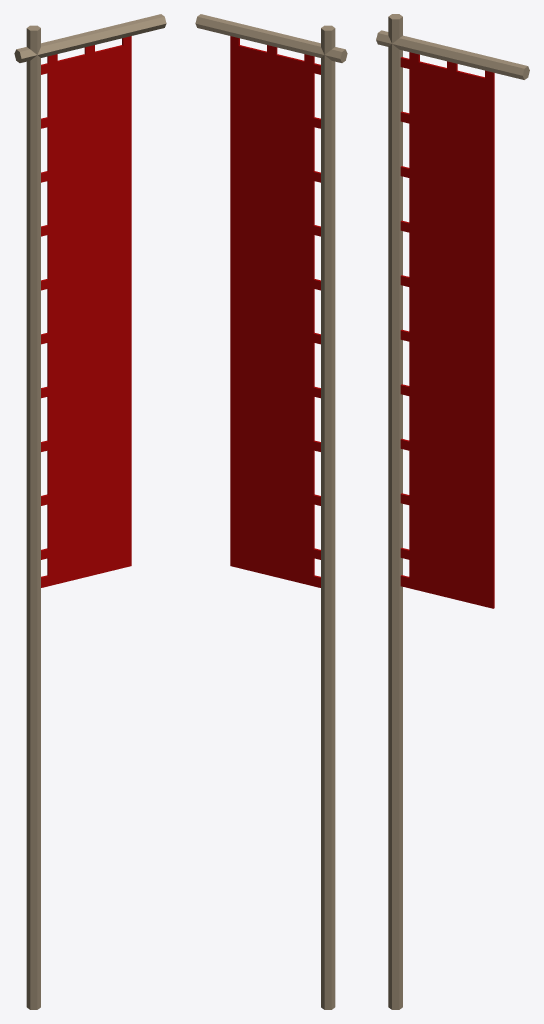
Rendered from Flag.fbx.
3 renders of one model, left to right at view 1: azimuth 30°, elevation 25°; view 2: azimuth 150°, elevation 25°; view 3: azimuth 330°, elevation 25°, orthographic.
Visible parts, largest first — view 1: Asian_Prop_Field_Castle_Flag_01, Asian_Prop_Field_Castle_Flag_01.001; view 2: Asian_Prop_Field_Castle_Flag_01, Asian_Prop_Field_Castle_Flag_01.001; view 3: Asian_Prop_Field_Castle_Flag_01, Asian_Prop_Field_Castle_Flag_01.001.
Part boxes in pixels (<box>): Asian_Prop_Field_Castle_Flag_01: <box>41,36,131,587</box>; Asian_Prop_Field_Castle_Flag_01.001: <box>14,14,166,1009</box>; Asian_Prop_Field_Castle_Flag_01: <box>230,36,320,587</box>; Asian_Prop_Field_Castle_Flag_01.001: <box>195,14,347,1009</box>; Asian_Prop_Field_Castle_Flag_01: <box>400,52,494,608</box>; Asian_Prop_Field_Castle_Flag_01.001: <box>376,14,529,1009</box>.
Size of the model in its own units: 91.2 by 589 by 7.85.
